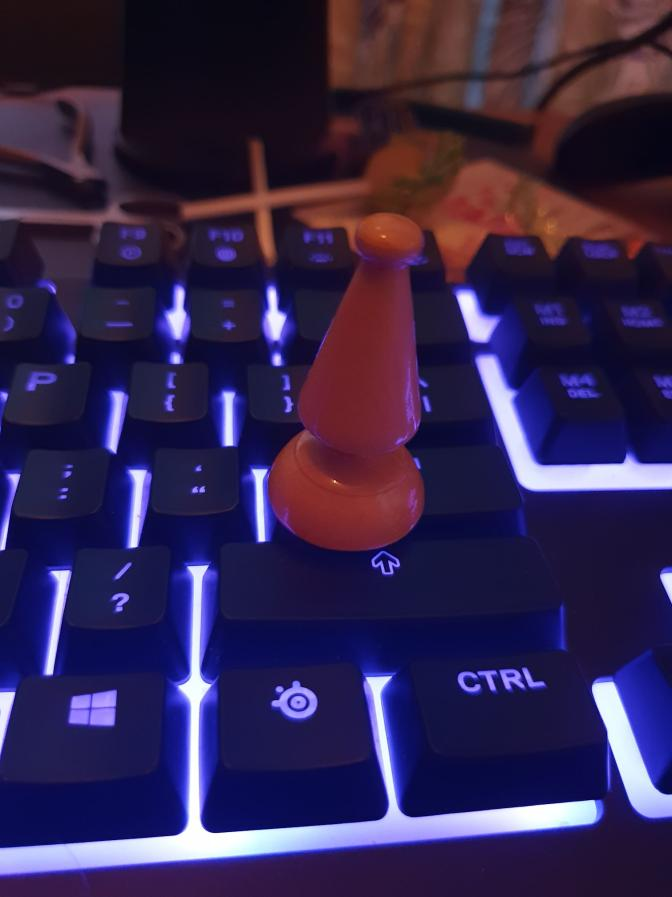wbishop: (267, 214, 422, 551)
